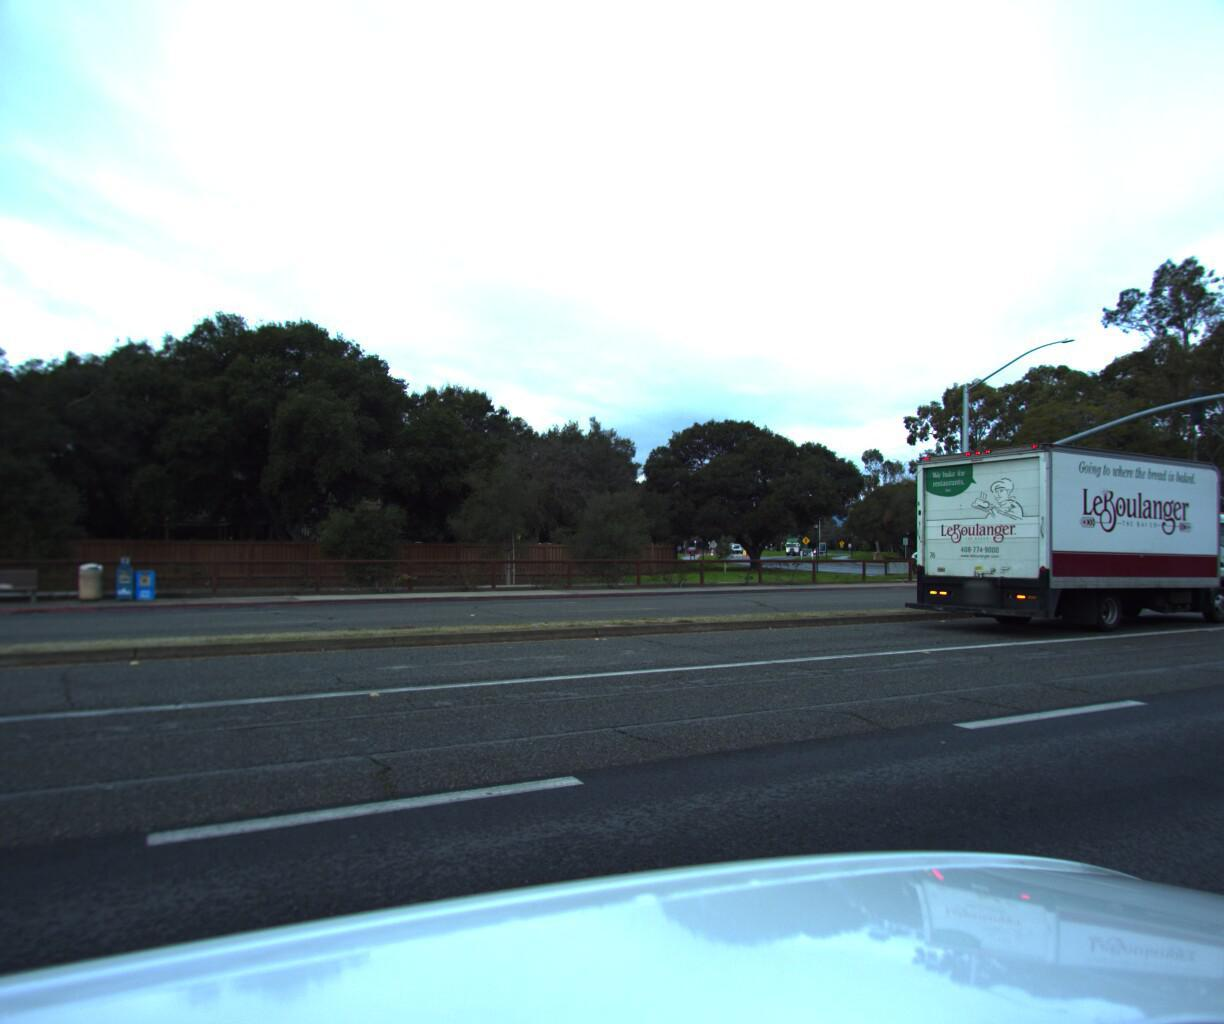truck: (904, 434, 1224, 635)
